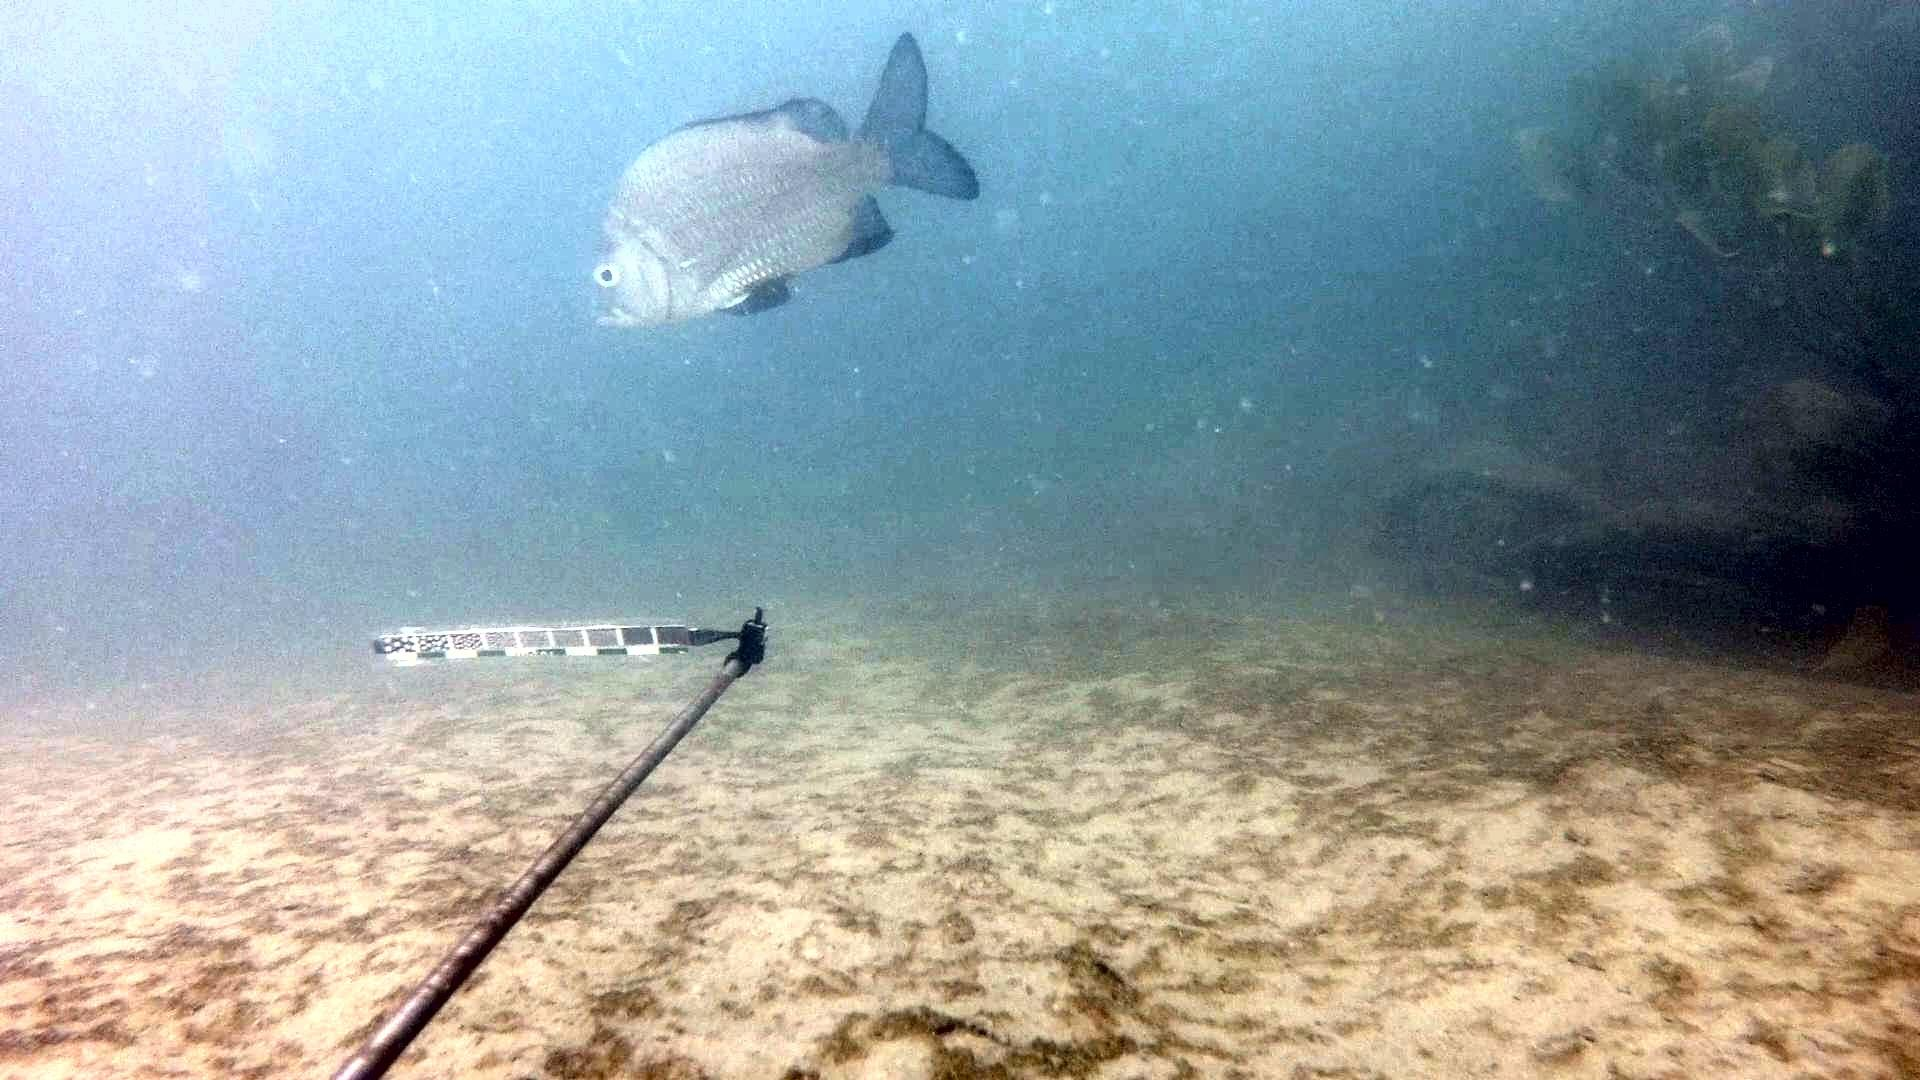acanthopagrus palmaris: (580, 26, 982, 340)
